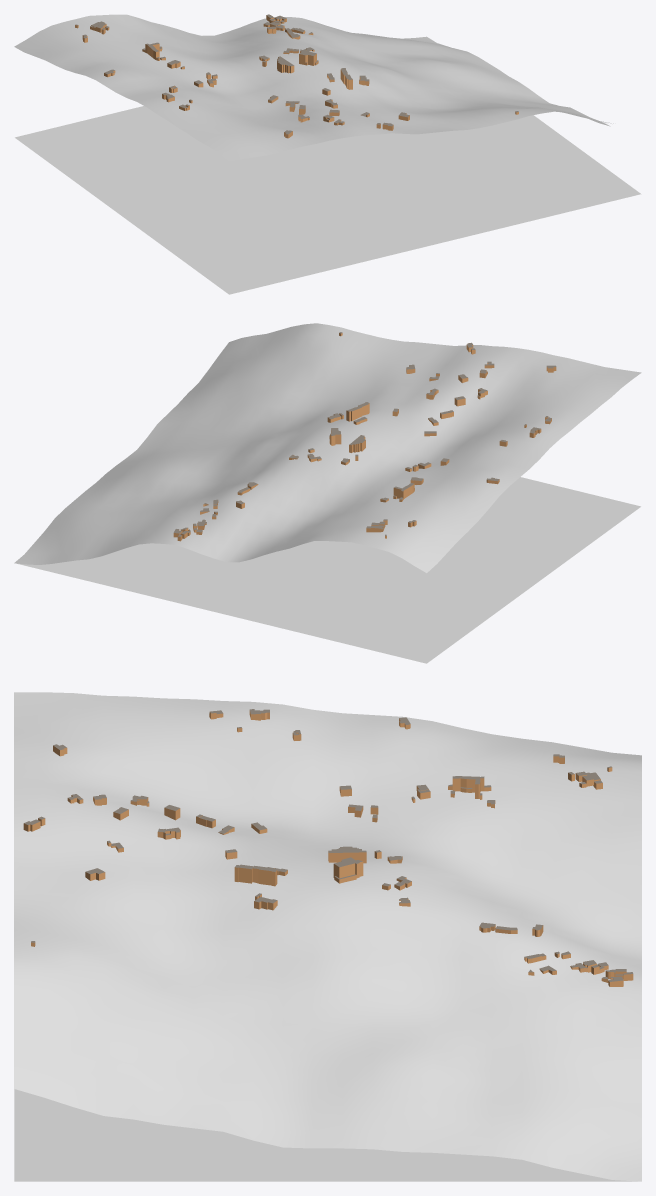
File: ozon.glb
3 renders of one model, top to bottom at view 1: azimuth 30°, elevation 25°; view 2: azimuth 150°, elevation 25°; view 3: azimuth 270°, elevation 25°, orthographic. The views are drawn at different scales.
Parts seen in each view (by area): view 1: Terrain_envelope, Terrain, map_9.osm_buildings; view 2: Terrain, Terrain_envelope, map_9.osm_buildings; view 3: Terrain, Terrain_envelope, map_9.osm_buildings.
Boxes of the visible parts, <box> form: Terrain_envelope: <box>15,106,641,294</box>; Terrain: <box>14,14,613,160</box>; map_9.osm_buildings: <box>75,14,518,138</box>; Terrain: <box>14,323,641,572</box>; Terrain_envelope: <box>16,477,640,663</box>; map_9.osm_buildings: <box>173,332,556,541</box>; Terrain: <box>14,692,641,1181</box>; Terrain_envelope: <box>14,1089,637,1181</box>; map_9.osm_buildings: <box>23,709,633,986</box>.
Size of the model in its own units: 720 by 223 by 649.
